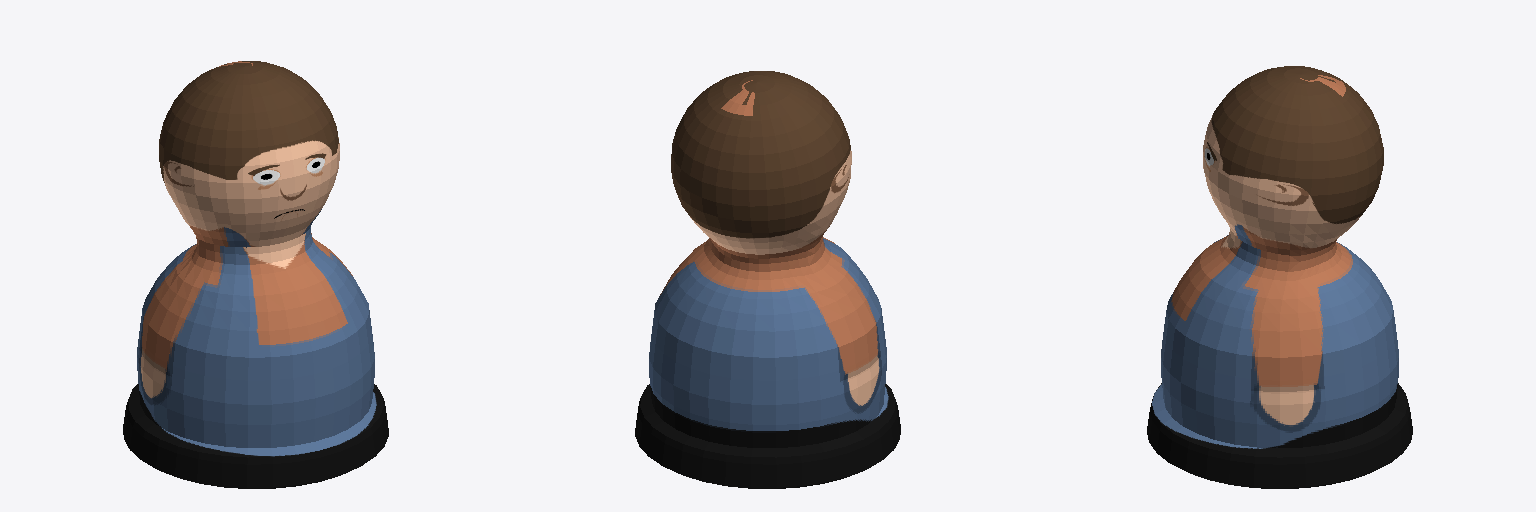
3 renders of one model, left to right at view 1: azimuth 30°, elevation 25°; view 2: azimuth 150°, elevation 25°; view 3: azimuth 270°, elevation 25°, orthographic.
Visible parts, largest first — view 1: CharPawn_CharPawn_Sphere; view 2: CharPawn_CharPawn_Sphere; view 3: CharPawn_CharPawn_Sphere.
Part boxes in pixels (bbox=[...]): CharPawn_CharPawn_Sphere: bbox=[123, 61, 388, 488]; CharPawn_CharPawn_Sphere: bbox=[635, 71, 900, 488]; CharPawn_CharPawn_Sphere: bbox=[1147, 66, 1412, 488].
Size of the model in its own units: 1.42 by 2.13 by 1.42.
1 materials, 1 textured.